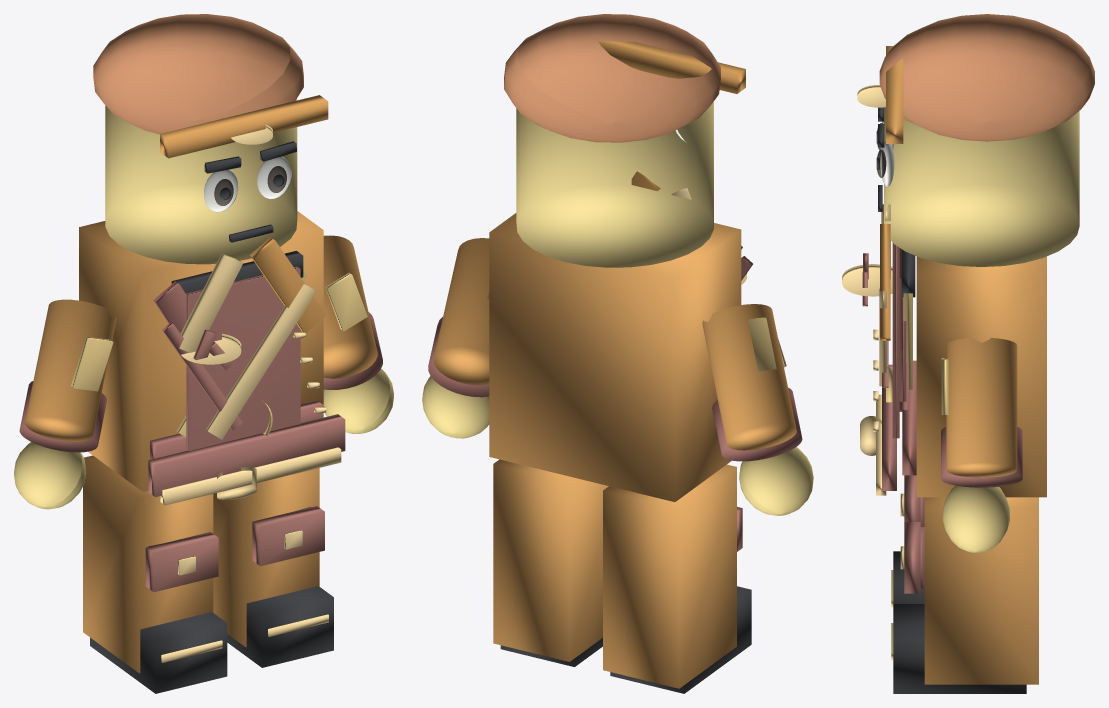
The model's file is skylor.glb.
3 renders of one model, left to right at view 1: azimuth 30°, elevation 25°; view 2: azimuth 150°, elevation 25°; view 3: azimuth 270°, elevation 25°, orthographic. The views are drawn at different scales.
Parts seen in each view (by area): view 1: torsoBody, hairCap, headCore, leftLegBody, remasterKimonoUnderlayer, rightLegBody, leftArmBody, remasterWaistWrap, leftBoot, rightBoot, rightArmBody, remasterTempleBand (+19 smaller); view 2: torsoBody, leftLegBody, headCore, rightLegBody, hairCap, leftArmBody, rightArmBody, leftHandAuthored, remasterTempleBand, rightHandAuthored, leftBoot, leftArmGuard (+3 smaller); view 3: headCore, hairCap, torsoBody, rightLegBody, rightArmBody, rightBoot, rightHandAuthored, remasterKimonoUnderlayer, remasterTempleBand, rightArmGuard, torsoBelt, remasterWaistWrap (+14 smaller).
Boxes of the visible parts, box(x1,y1,x2,y2) form: torsoBody: box(79, 211, 323, 491); hairCap: box(93, 14, 303, 134); headCore: box(105, 99, 297, 264); leftLegBody: box(83, 455, 213, 673); remasterKimonoUnderlayer: box(186, 266, 300, 450); rightLegBody: box(213, 468, 319, 647); leftArmBody: box(25, 299, 116, 441); remasterWaistWrap: box(148, 414, 345, 497); leftBoot: box(90, 612, 227, 693); rightBoot: box(227, 586, 333, 667); rightArmBody: box(323, 235, 377, 378); remasterTempleBand: box(160, 95, 328, 158); torsoBody: box(489, 213, 741, 501); leftLegBody: box(603, 464, 736, 688); headCore: box(516, 102, 713, 267); rightLegBody: box(493, 459, 608, 661); hairCap: box(504, 14, 720, 142); leftArmBody: box(702, 304, 796, 450); rightArmBody: box(433, 238, 489, 385); leftHandAuthored: box(739, 447, 813, 515); remasterTempleBand: box(598, 41, 745, 93); rightHandAuthored: box(422, 376, 489, 438); leftBoot: box(610, 586, 751, 693); leftArmGuard: box(712, 387, 802, 461); headCore: box(884, 107, 1079, 266); hairCap: box(879, 14, 1094, 141); torsoBody: box(916, 256, 1046, 497); rightLegBody: box(924, 497, 1038, 684); rightArmBody: box(946, 338, 1017, 477); rightBoot: box(893, 604, 1026, 693); rightHandAuthored: box(942, 477, 1009, 552); remasterKimonoUnderlayer: box(892, 243, 899, 438); remasterTempleBand: box(886, 46, 903, 143); rightArmGuard: box(941, 427, 1022, 487); torsoBelt: box(902, 360, 916, 475); remasterWaistWrap: box(882, 364, 896, 490).
Size of the model in its own units: 1.61 by 2.5 by 0.9299.
